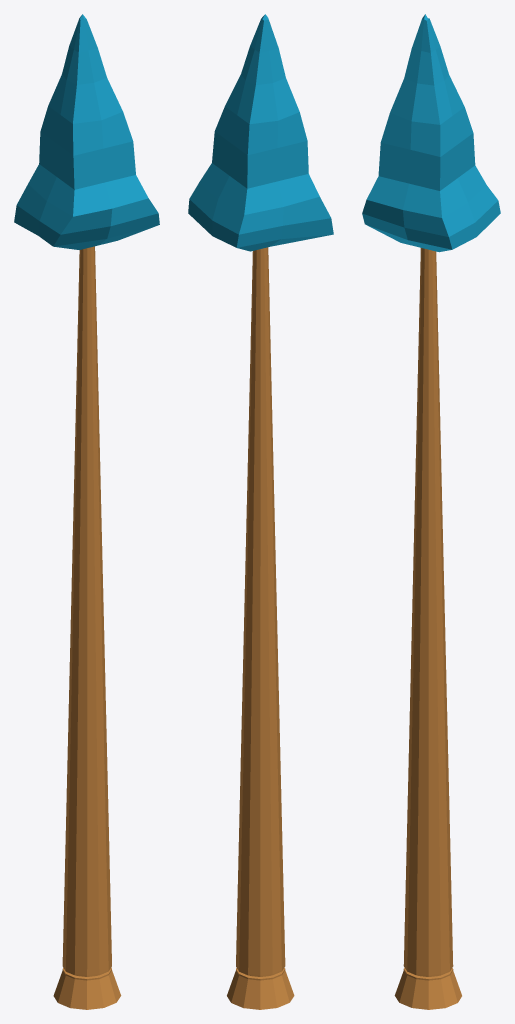
The model's file is icearrow.fbx.
3 renders of one model, left to right at view 1: azimuth 30°, elevation 25°; view 2: azimuth 210°, elevation 25°; view 3: azimuth 330°, elevation 25°, orthographic.
Parts seen in each view (by area): view 1: Cube.001; view 2: Cube.001; view 3: Cube.001.
Part boxes in pixels (x1=…): Cube.001: x1=14, y1=14, x2=159, y2=1009; Cube.001: x1=188, y1=14, x2=333, y2=1009; Cube.001: x1=362, y1=14, x2=500, y2=1009.
Bounding box in the file's own units: 69.48 × 670 × 61.52.
